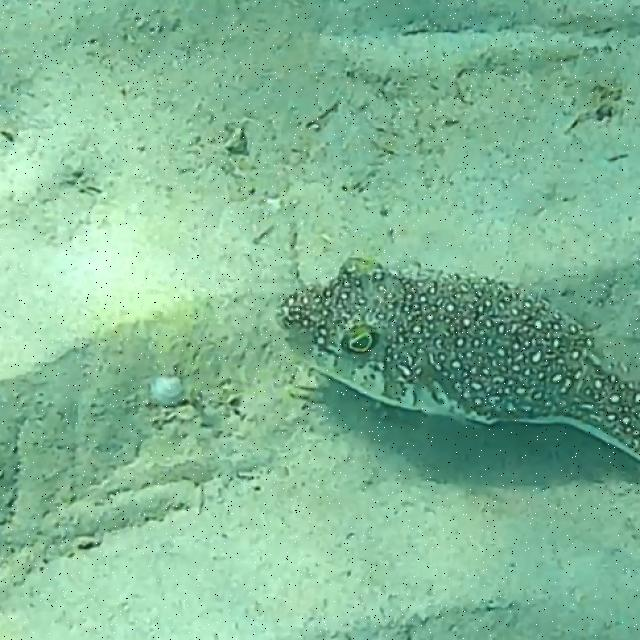Balik: (279, 259, 639, 460)
